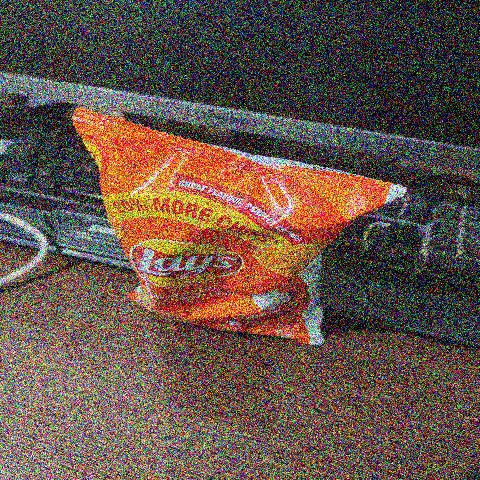lays_orange_pack: (57, 74, 415, 388)
